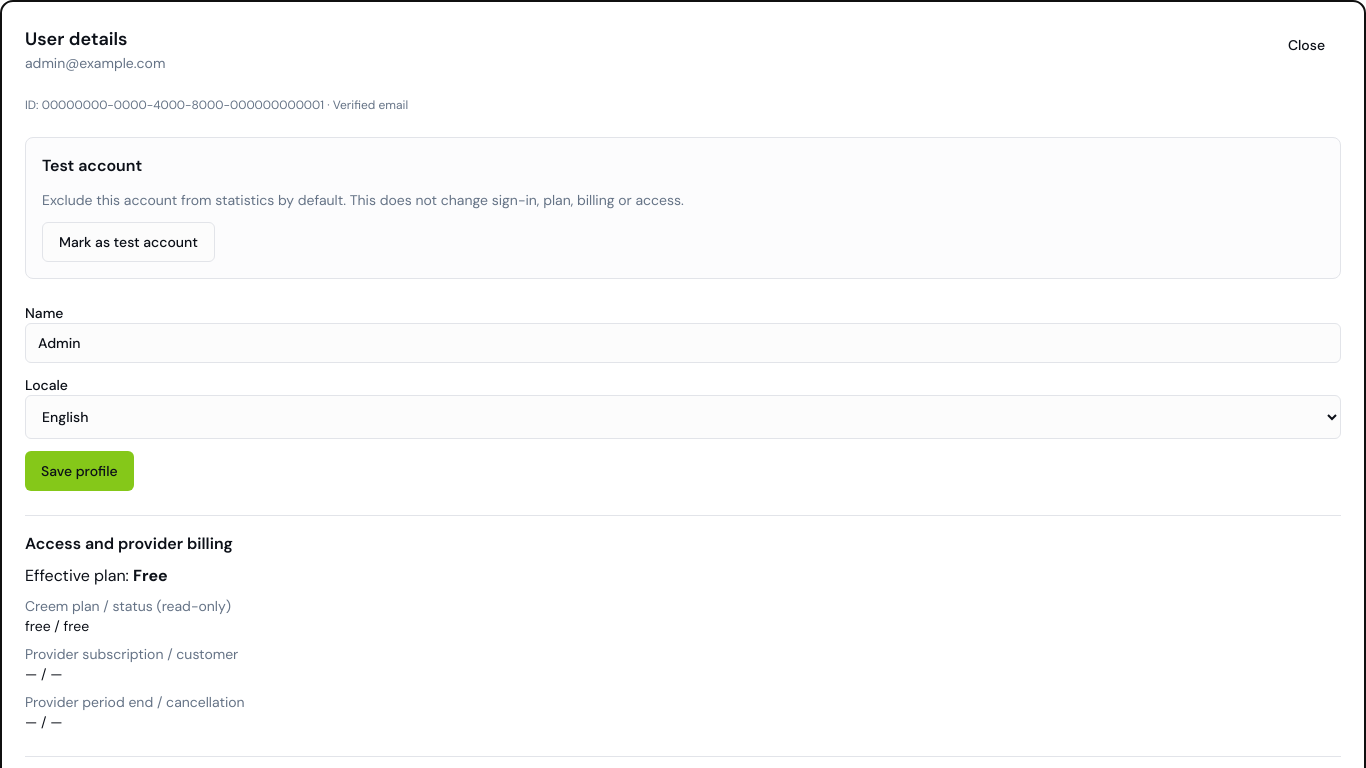
Test: Admin user edits and manual allowance › saves only safe profile fields and blocks duplicate submits
Replace the text in the field labelled "Name" with "Safe Name" at x=683, y=343, box [25,323,1341,363]
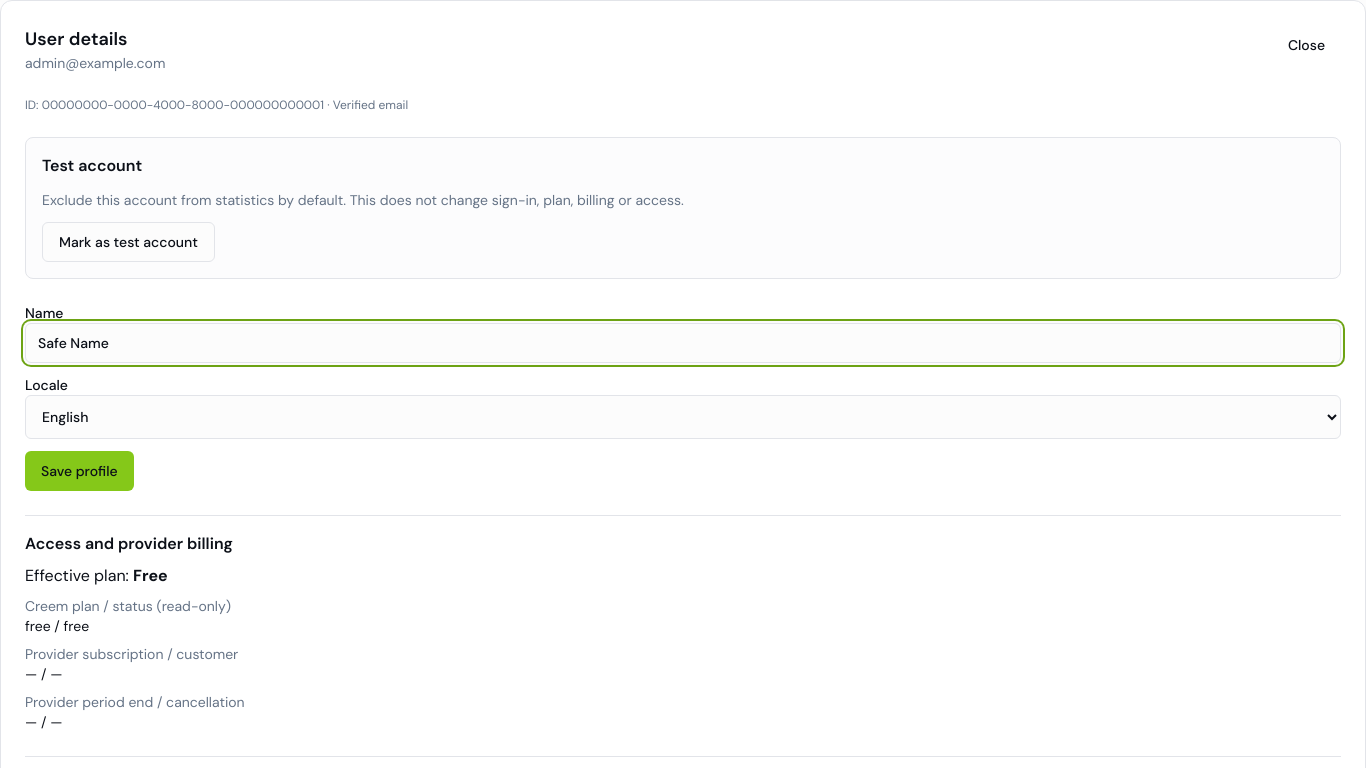
Select "Українська" in the dropdown labelled "Locale" at x=683, y=417, box [25,395,1341,439]
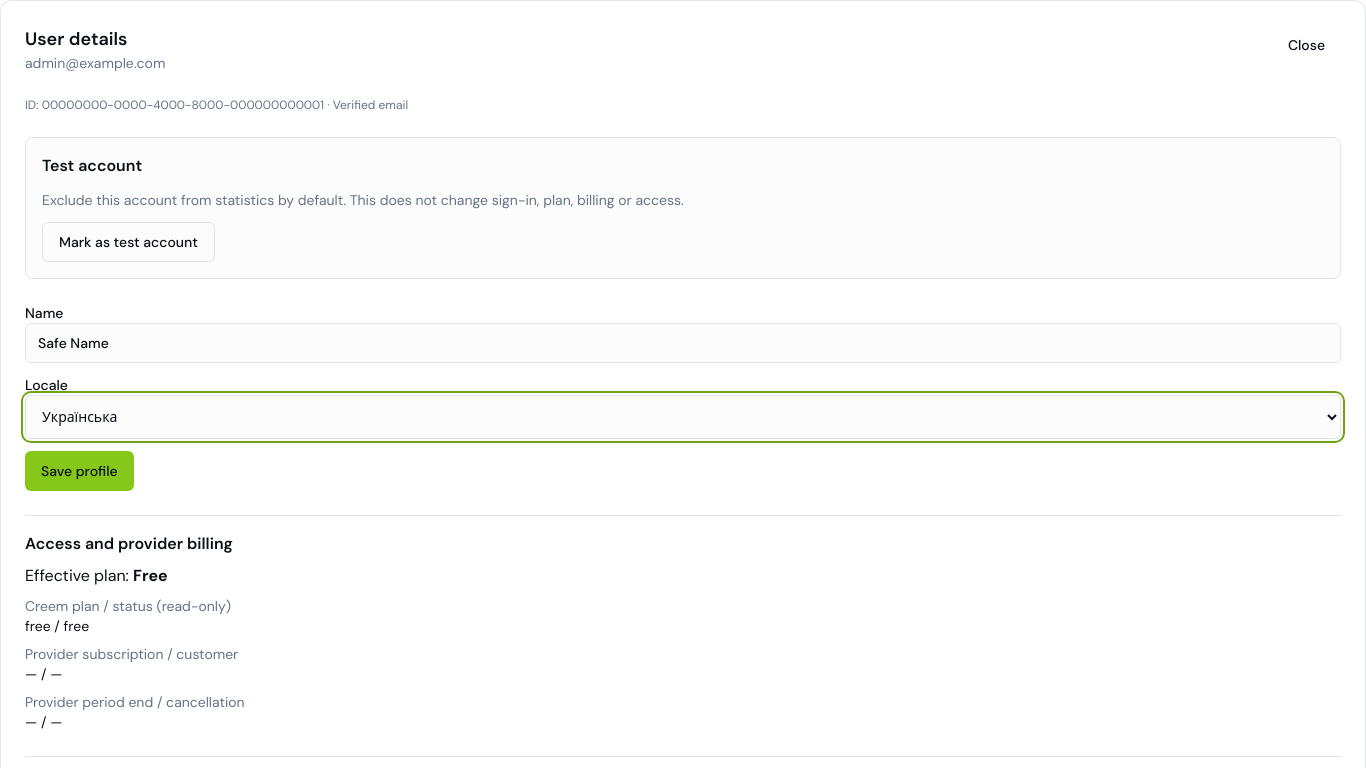
Submit the form "Save profile", box [25,303,1341,491]
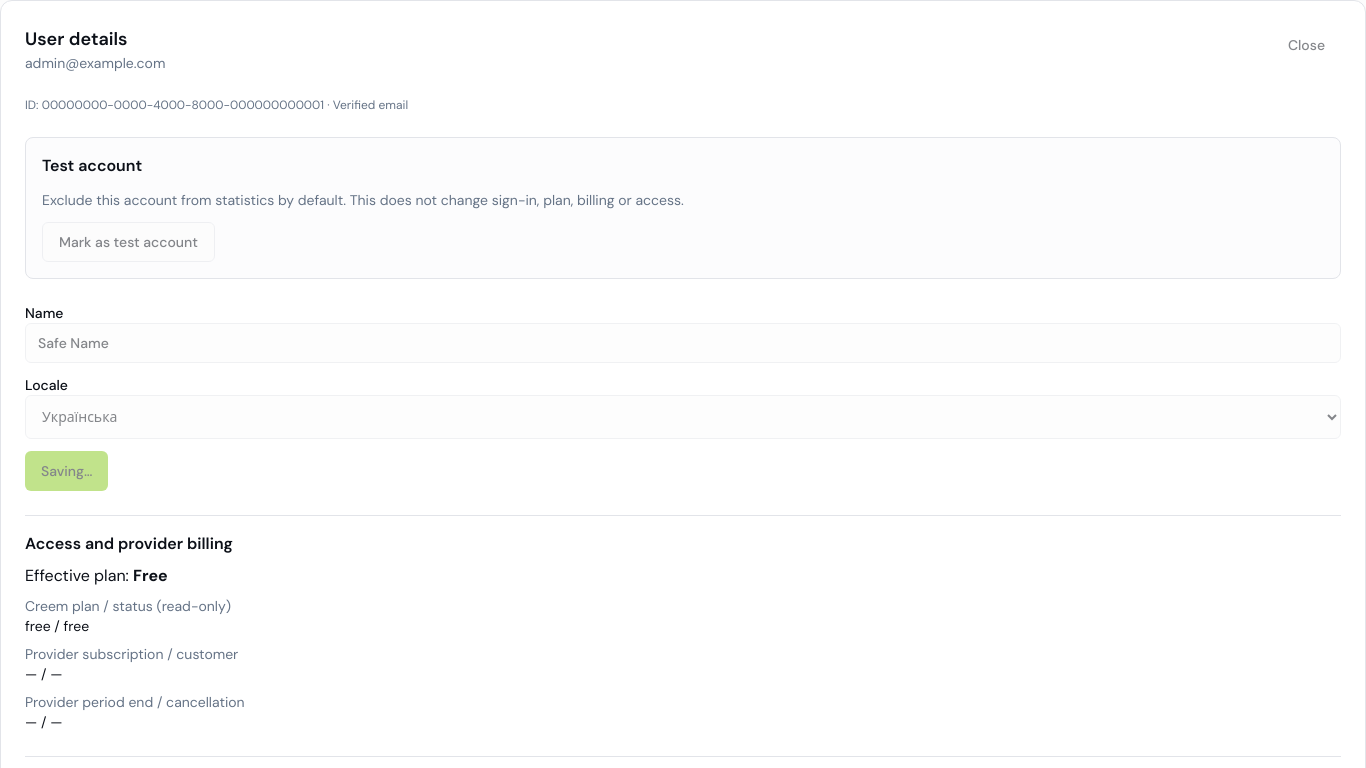
Submit the form named "Save profile", box [25,303,1341,491]
(page scrolled)
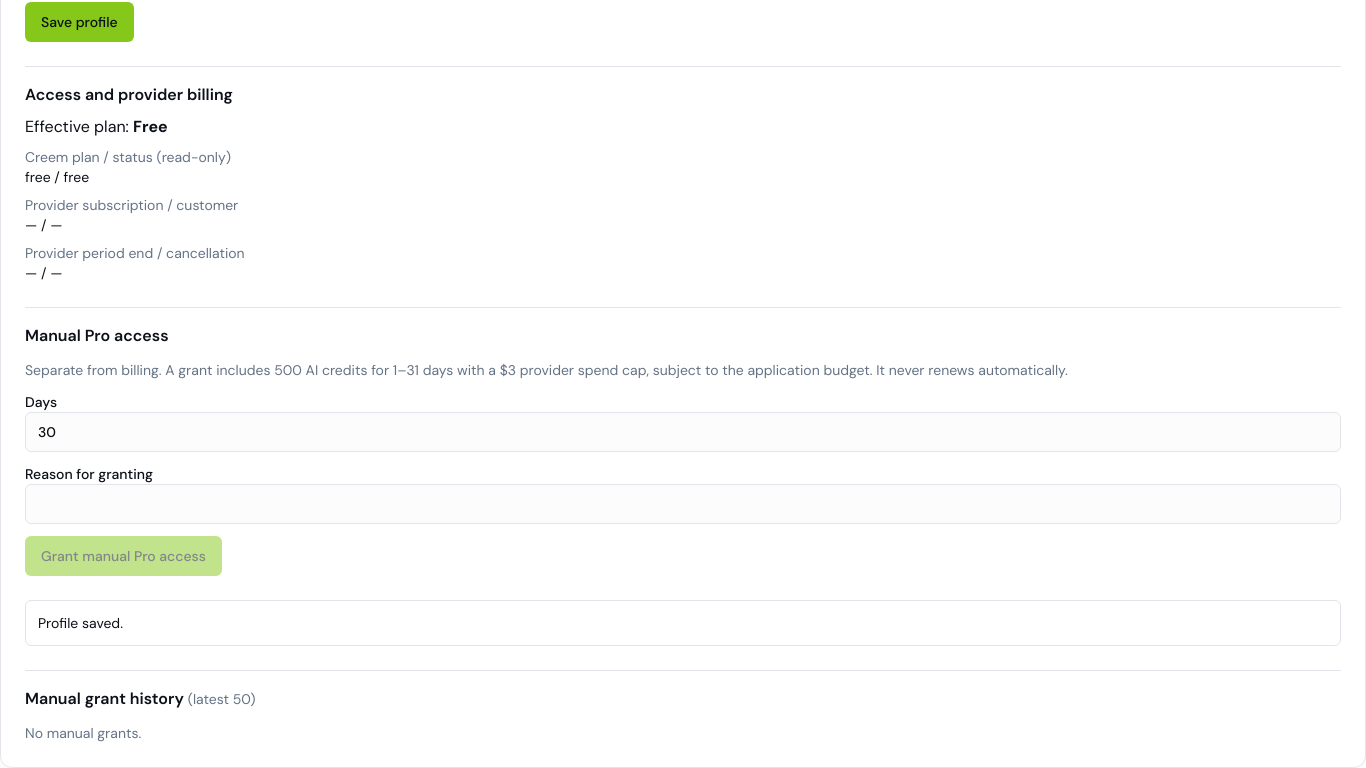
Result: the text "Profile saved." is shown at [25,600,1341,646]
